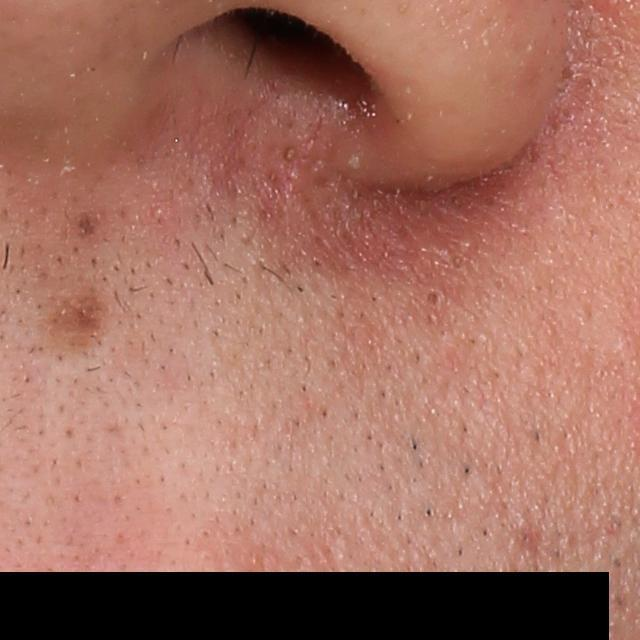comedo: (422, 281, 447, 314)
nevus: (43, 285, 114, 363), (72, 215, 97, 239)
